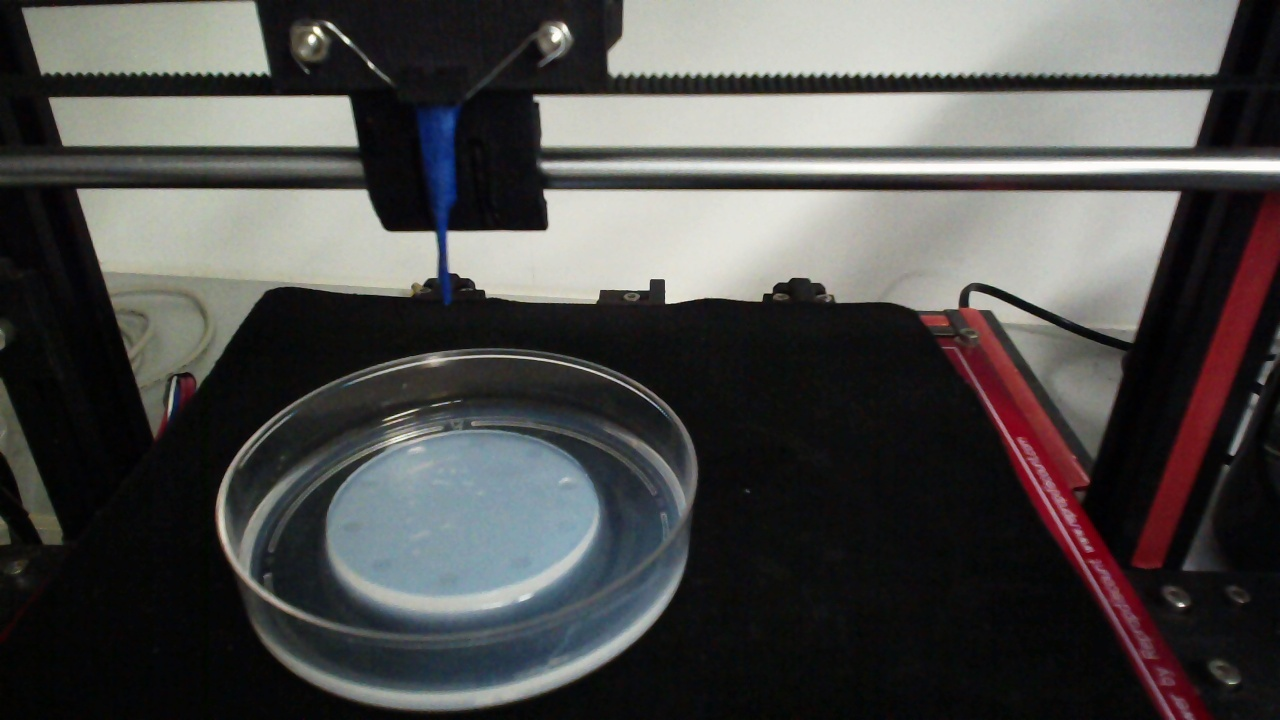groove: (507, 552, 533, 571), (553, 515, 579, 534), (340, 515, 364, 535), (434, 571, 457, 589), (404, 443, 428, 459), (463, 436, 487, 452), (357, 473, 380, 489), (556, 478, 582, 492), (521, 445, 547, 459), (370, 556, 394, 571)
needle: (417, 109, 455, 304)
